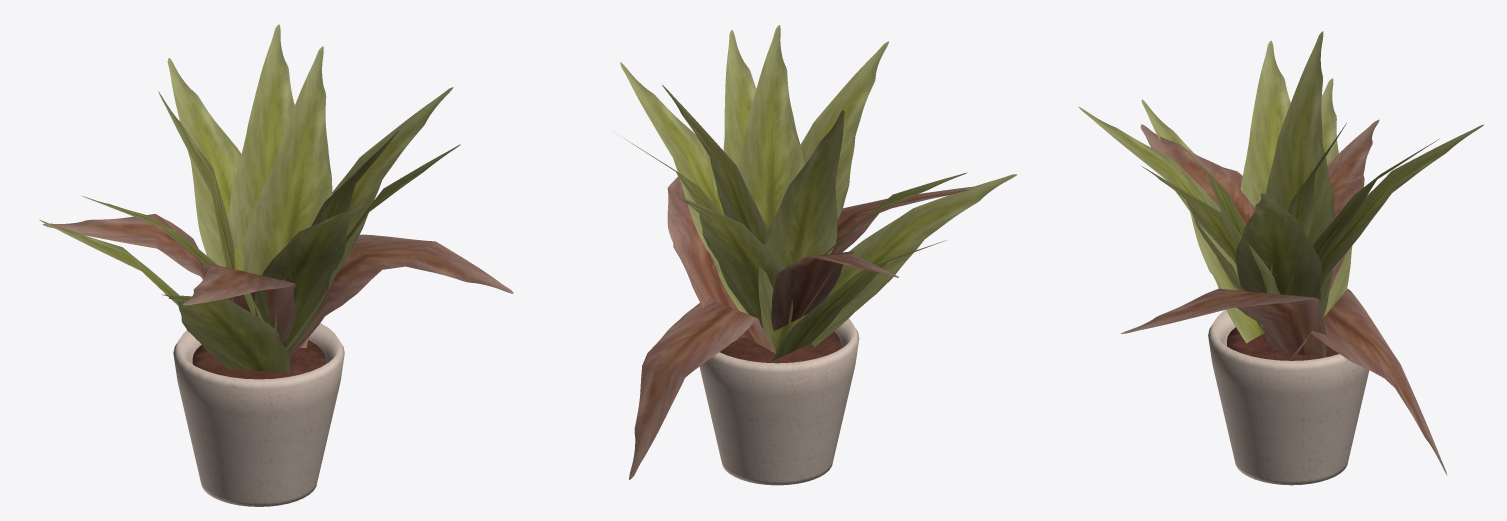
Rendered from aloevera mid.FBX.
3 views of the same model, side by side, from view 1: azimuth 30°, elevation 25°; view 2: azimuth 150°, elevation 25°; view 3: azimuth 270°, elevation 25° (orthographic). The views are drawn at different scales.
Parts seen in each view (by area): view 1: aloevera mid; view 2: aloevera mid; view 3: aloevera mid.
Boxes of the visible parts, x1=… form: aloevera mid: x1=39, y1=24, x2=513, y2=506; aloevera mid: x1=614, y1=25, x2=1017, y2=485; aloevera mid: x1=1078, y1=31, x2=1483, y2=485.
Bounding box in the file's own units: 1.03 × 0.9544 × 0.9104.
